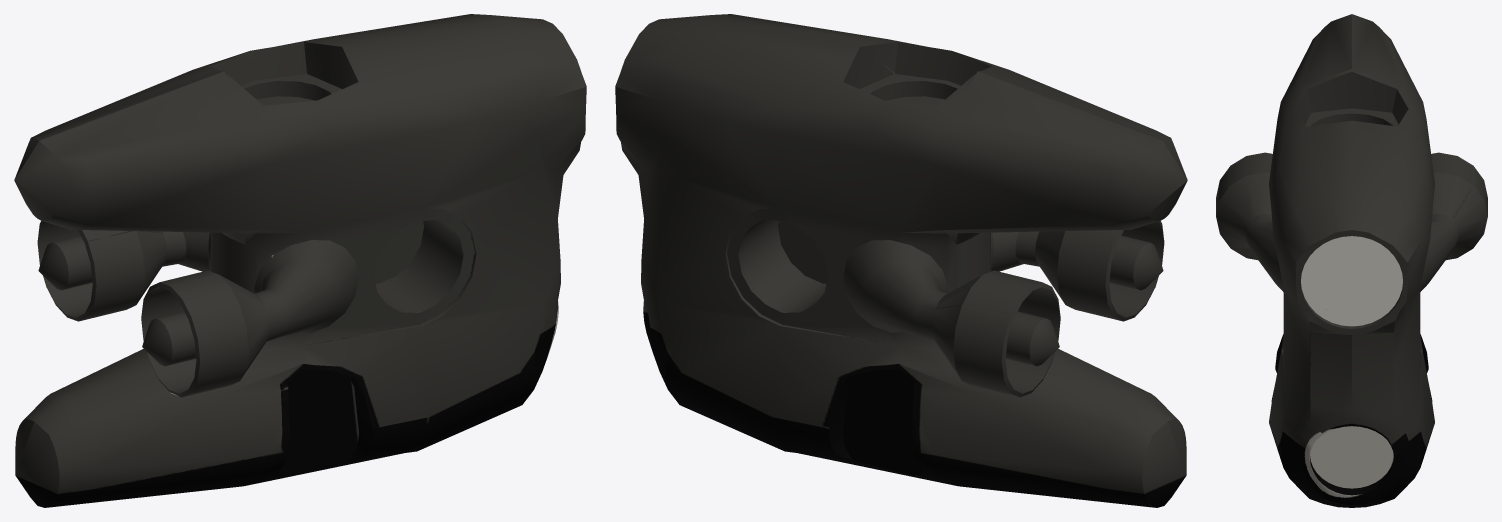
The model's file is x3_low_poly_smoothed.dae.
3 renders of one model, left to right at view 1: azimuth 30°, elevation 25°; view 2: azimuth 150°, elevation 25°; view 3: azimuth 270°, elevation 25°, orthographic. The views are drawn at different scales.
Visible parts, largest first — view 1: Cylinder.001; view 2: Cylinder.001; view 3: Cylinder.001.
Part boxes in pixels (x1,y1,x2,y2): Cylinder.001: [14, 14, 586, 507]; Cylinder.001: [615, 14, 1187, 507]; Cylinder.001: [1216, 14, 1487, 507].
Size of the model in its own units: 0.4797 by 0.2504 by 0.3438.
Materials: 1 (1 with a texture image).
